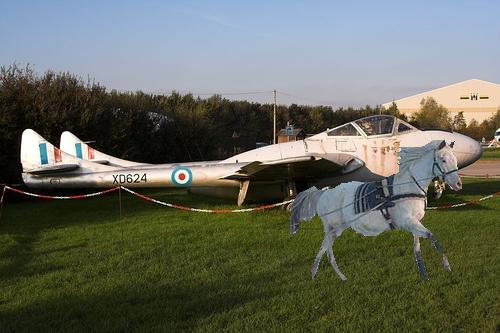tampered: (291, 141, 462, 280)
